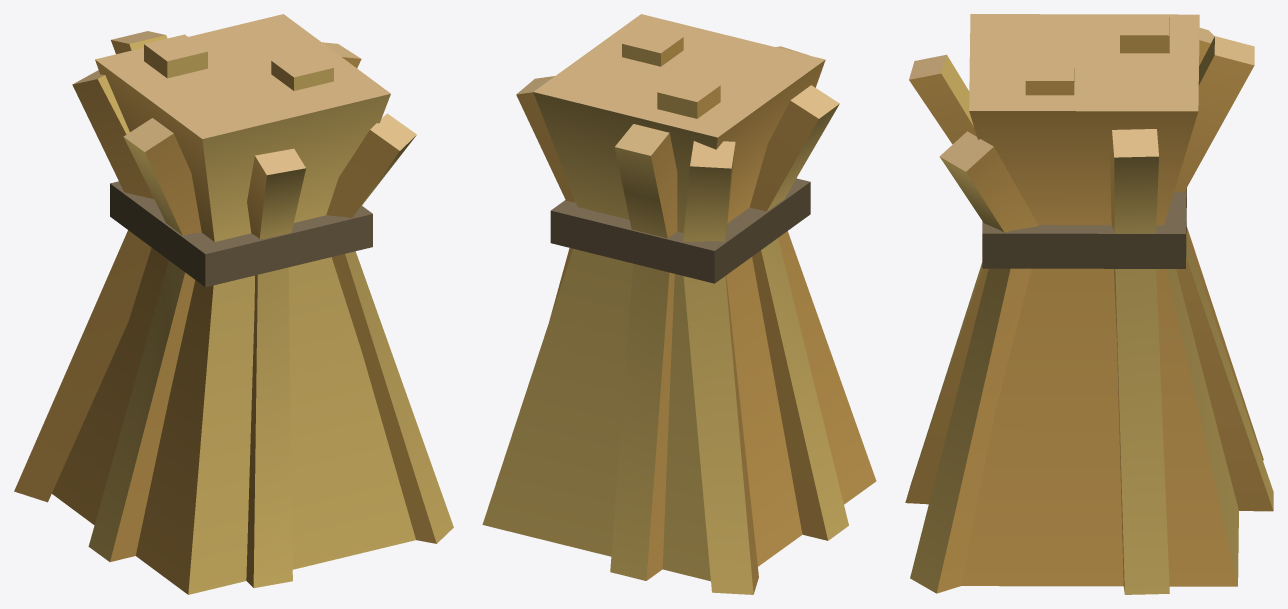
File: Crops_WheatStack.gltf
3 views of the same model, side by side, from view 1: azimuth 30°, elevation 25°; view 2: azimuth 150°, elevation 25°; view 3: azimuth 270°, elevation 25° (orthographic). The views are drawn at different scales.
Visible parts, largest first — view 1: SF_Prop_Crops_WheatStack_01; view 2: SF_Prop_Crops_WheatStack_01; view 3: SF_Prop_Crops_WheatStack_01.
Boxes of the visible parts, x1,y1,x2,y2 form: SF_Prop_Crops_WheatStack_01: (14, 14, 453, 594); SF_Prop_Crops_WheatStack_01: (482, 14, 876, 594); SF_Prop_Crops_WheatStack_01: (905, 14, 1273, 594).
Bounding box in the file's own units: 0.0214 × 0.0311 × 0.0218.
1 material, 1 textured.
